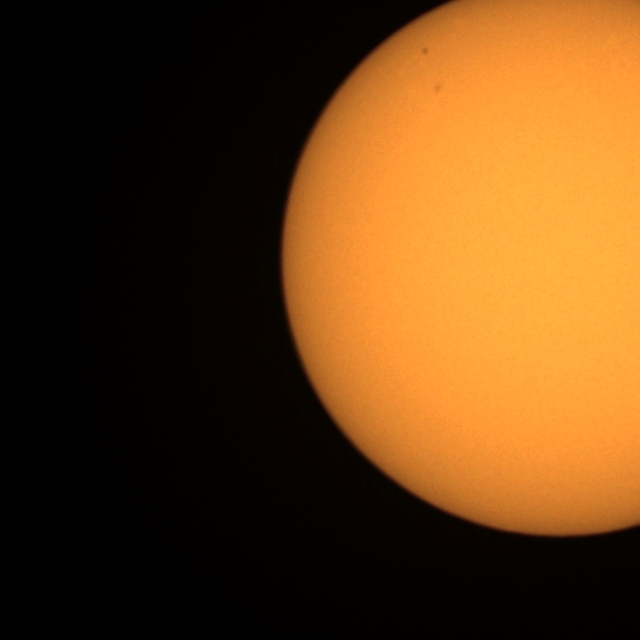sunspot: (420, 46, 430, 57)
